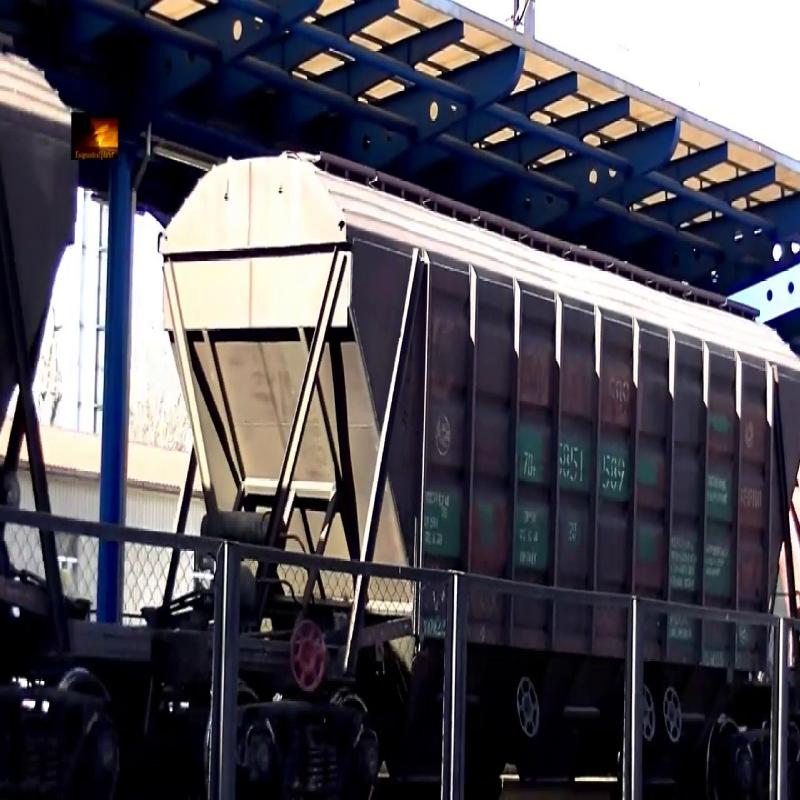train: (150, 38, 800, 777)
